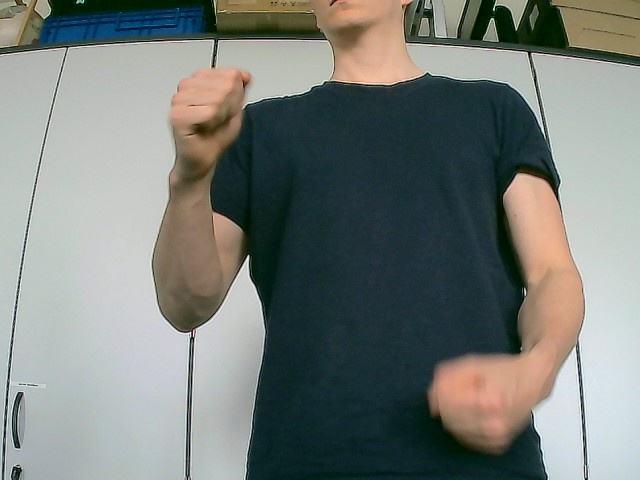no_gesture: (167, 66, 252, 179)
